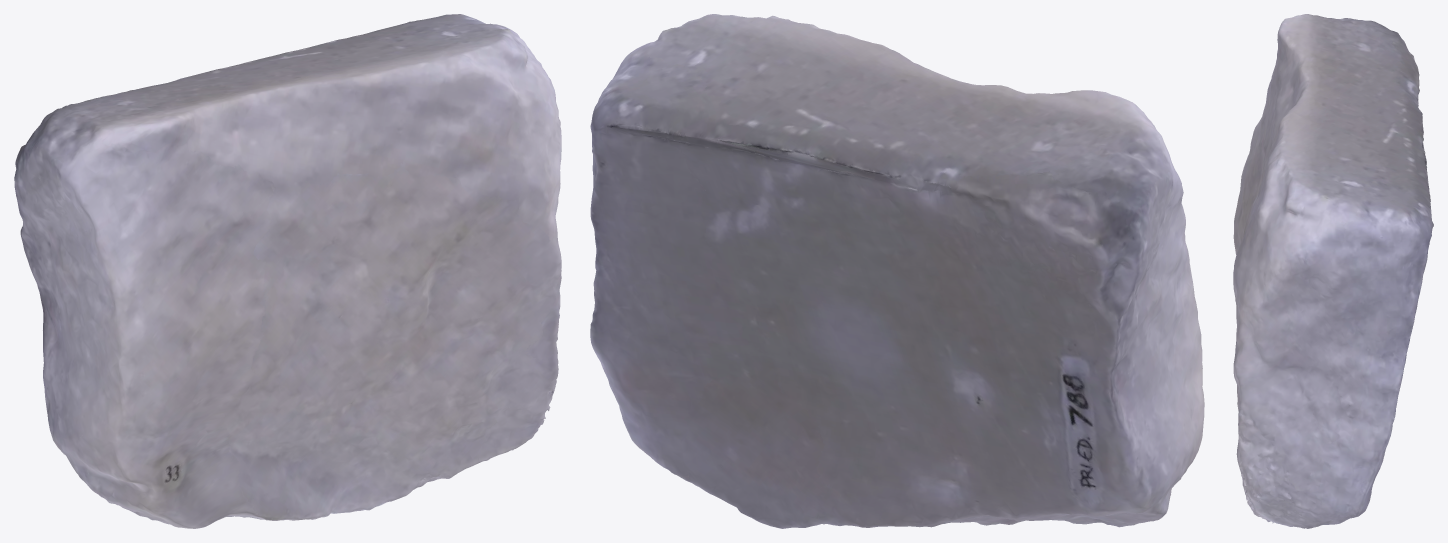
File: white_marble.glb
The picture shows the model from 3 angles, left to right: view 1: azimuth 30°, elevation 25°; view 2: azimuth 150°, elevation 25°; view 3: azimuth 270°, elevation 25°; orthographic projection. The views are drawn at different scales.
Visible parts, largest first — view 1: Object_2; view 2: Object_2; view 3: Object_2.
Boxes of the visible parts, x1,y1,x2,y2 form: Object_2: (14,14,561,528); Object_2: (590,14,1204,528); Object_2: (1233,14,1433,528).
Size of the model in its own units: 1.98 by 1.67 by 0.8065.
Materials: 1 (1 with a texture image).
